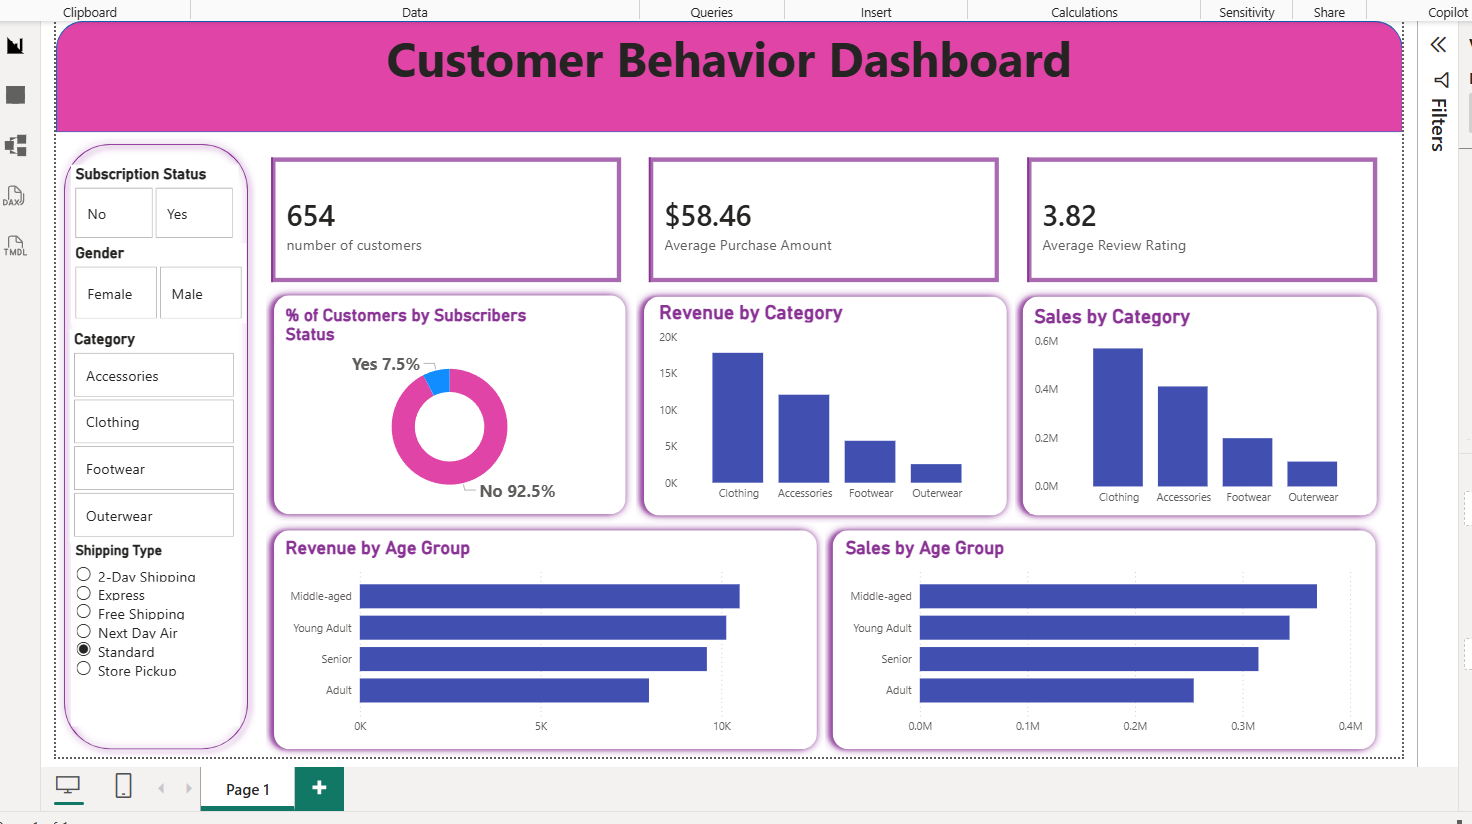

The dashboard page shown, as its layout file describes it:
{"tool":"powerbi","page":{"name":"Page 1","canvas":[1500,820],"ordinal":0},"visuals":[{"type":"cardVisual","fields":{"Data":["public customer.number of customers","public customer.Average Purchase Amount","public customer.Average Review Rating"]},"box":[211.7,124,1288.5,195],"z":0},{"type":"shape","box":[0,0,1500.3,124],"z":1000},{"type":"textbox","box":[0,0,1500.3,90.5],"z":2000},{"type":"shape","box":[234,296.7,409.5,261.9],"z":3000},{"type":"donutChart","title":"% of Customers by Subscribers Status","fields":{"Category":["public customer.subscription_status"],"Y":["Sum(public customer.customer_id)"]},"box":[250.7,316.1,376,224.2],"z":4000},{"type":"shape","box":[646.4,298.1,422.1,261.9],"z":5000},{"type":"shape","box":[1068.4,298.1,412.3,261.9],"z":6000},{"type":"clusteredColumnChart","title":"Revenue by Category","fields":{"Category":["public customer.category"],"Y":["Sum(public customer.purchase_amount)"]},"box":[667.3,312,378.9,232.6],"z":7000},{"type":"clusteredColumnChart","title":"Sales by Category","fields":{"Category":["public customer.category"],"Y":["Sum(public customer.customer_id)"]},"box":[1085.2,316.2,378.9,232.6],"z":8000},{"type":"shape","box":[0,128.2,222.9,692.3],"z":9000},{"type":"advancedSlicerVisual","title":"Subscription Status","fields":{"Values":["public customer.subscription_status"]},"box":[16.7,160.2,186.7,87.8],"z":10000},{"type":"advancedSlicerVisual","title":"Gender","fields":{"Values":["public customer.gender"]},"box":[16.7,248,195,89.2],"z":11000},{"type":"advancedSlicerVisual","title":"Category","fields":{"Values":["public customer.category"]},"box":[15.3,344.1,188.1,236.8],"z":12000},{"type":"listSlicer","title":"Shipping Type","fields":{"Values":["public customer.shipping_type"]},"box":[16.7,580.9,188.1,204.8],"z":13000},{"type":"shape","box":[234,558.6,622.7,261.9],"z":14000},{"type":"clusteredBarChart","title":"Revenue by Age Group","fields":{"Y":["Sum(public customer.purchase_amount)"],"Category":["public customer.age_group"]},"box":[250.7,575.3,586.5,228.5],"z":15000},{"type":"shape","box":[856.7,558.6,622.7,261.9],"z":16000},{"type":"clusteredBarChart","title":"Sales by Age Group","fields":{"Y":["Sum(public customer.customer_id)"],"Category":["public customer.age_group"]},"box":[874.8,575.3,586.5,228.5],"z":17000}]}

Visuals, with their boxes on the page's 1500x820 design canvas (x1, y1, x2, y2). These are canvas units, not pixel positions in the 1472x824 screenshot, which may show the page scaled, cropped or inside an application window:
cardVisual - public customer.number of customers x public customer.Average Purchase Amount: bbox(212, 124, 1500, 319)
shape: bbox(0, 0, 1500, 124)
textbox: bbox(0, 0, 1500, 90)
shape: bbox(234, 297, 644, 559)
"% of Customers by Subscribers Status" donutChart: bbox(251, 316, 627, 540)
shape: bbox(646, 298, 1068, 560)
shape: bbox(1068, 298, 1481, 560)
"Revenue by Category" clusteredColumnChart: bbox(667, 312, 1046, 545)
"Sales by Category" clusteredColumnChart: bbox(1085, 316, 1464, 549)
shape: bbox(0, 128, 223, 820)
"Subscription Status" advancedSlicerVisual: bbox(17, 160, 203, 248)
"Gender" advancedSlicerVisual: bbox(17, 248, 212, 337)
"Category" advancedSlicerVisual: bbox(15, 344, 203, 581)
"Shipping Type" listSlicer: bbox(17, 581, 205, 786)
shape: bbox(234, 559, 857, 820)
"Revenue by Age Group" clusteredBarChart: bbox(251, 575, 837, 804)
shape: bbox(857, 559, 1479, 820)
"Sales by Age Group" clusteredBarChart: bbox(875, 575, 1461, 804)
